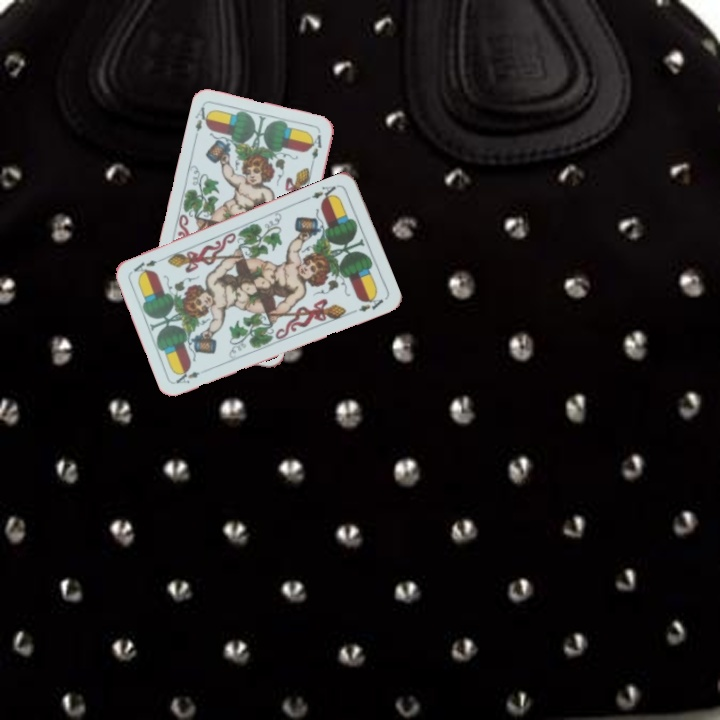EA: (302, 180, 341, 205), (191, 103, 213, 142), (172, 365, 203, 386)
